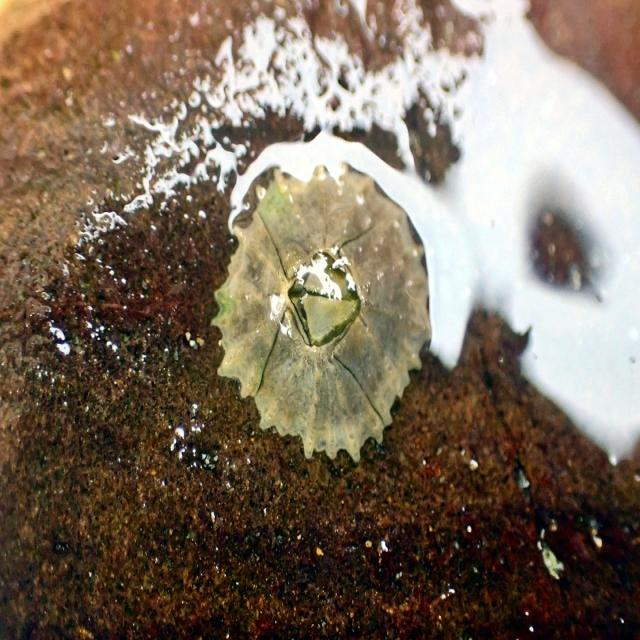barnacles: (217, 151, 428, 481)
